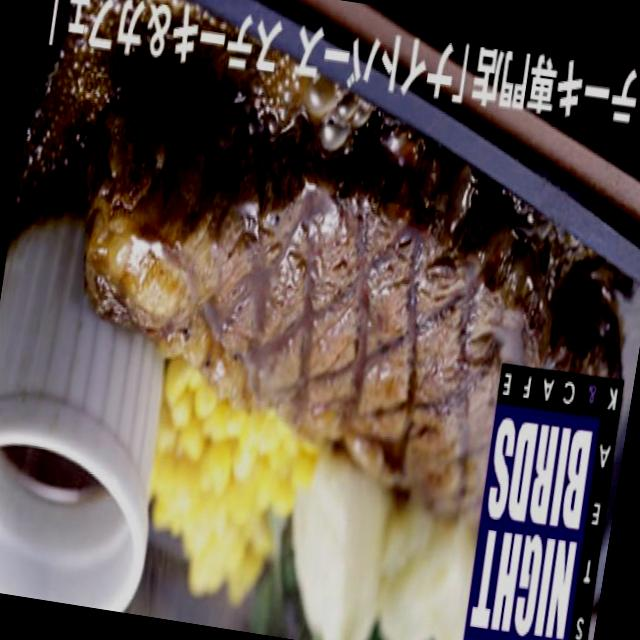Beef Steak: (114, 84, 547, 486)
